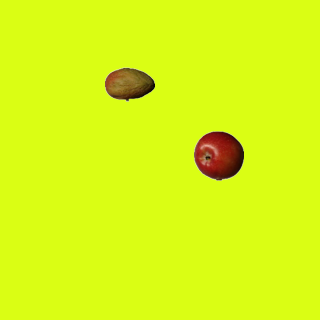Apple Braeburn: (193, 130, 243, 180)
Papaya: (104, 59, 154, 109)
